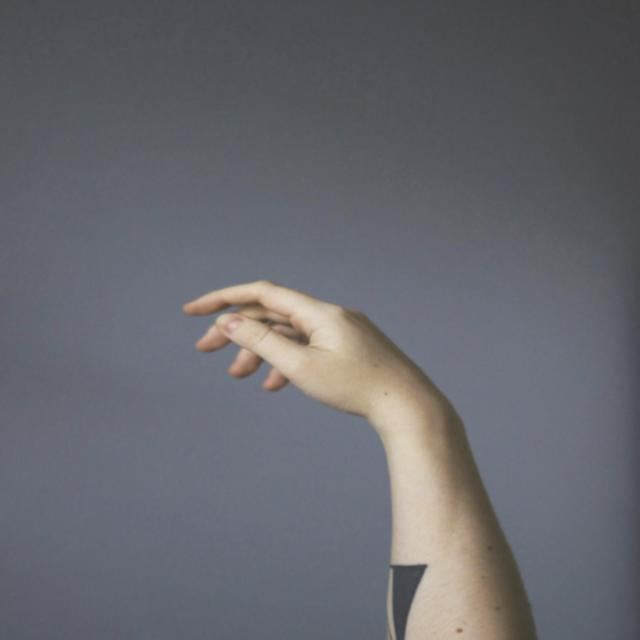piel: (184, 278, 541, 640)
